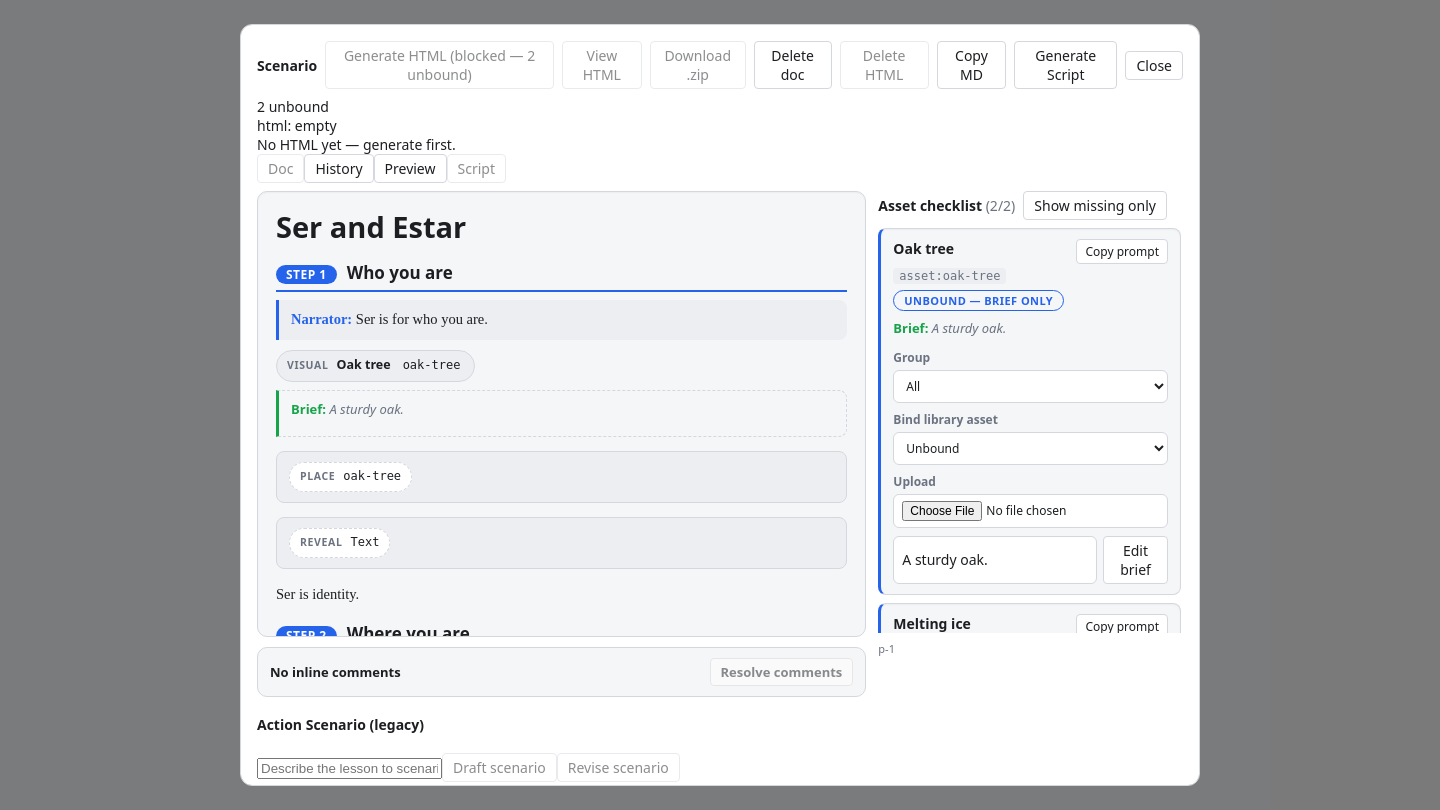
Scenario: AiScenarioModal Generate Script (issue #471) › previews per-slide durations, sources, fractions, and diagnostics from the accepted snapshot
This screenshot has width=1440, height=810.
Click the button with test id "ai-scenario-generate-script". click: (1066, 65)
box: top-left (1014, 41), bottom-right (1117, 89)
(page scrolled)
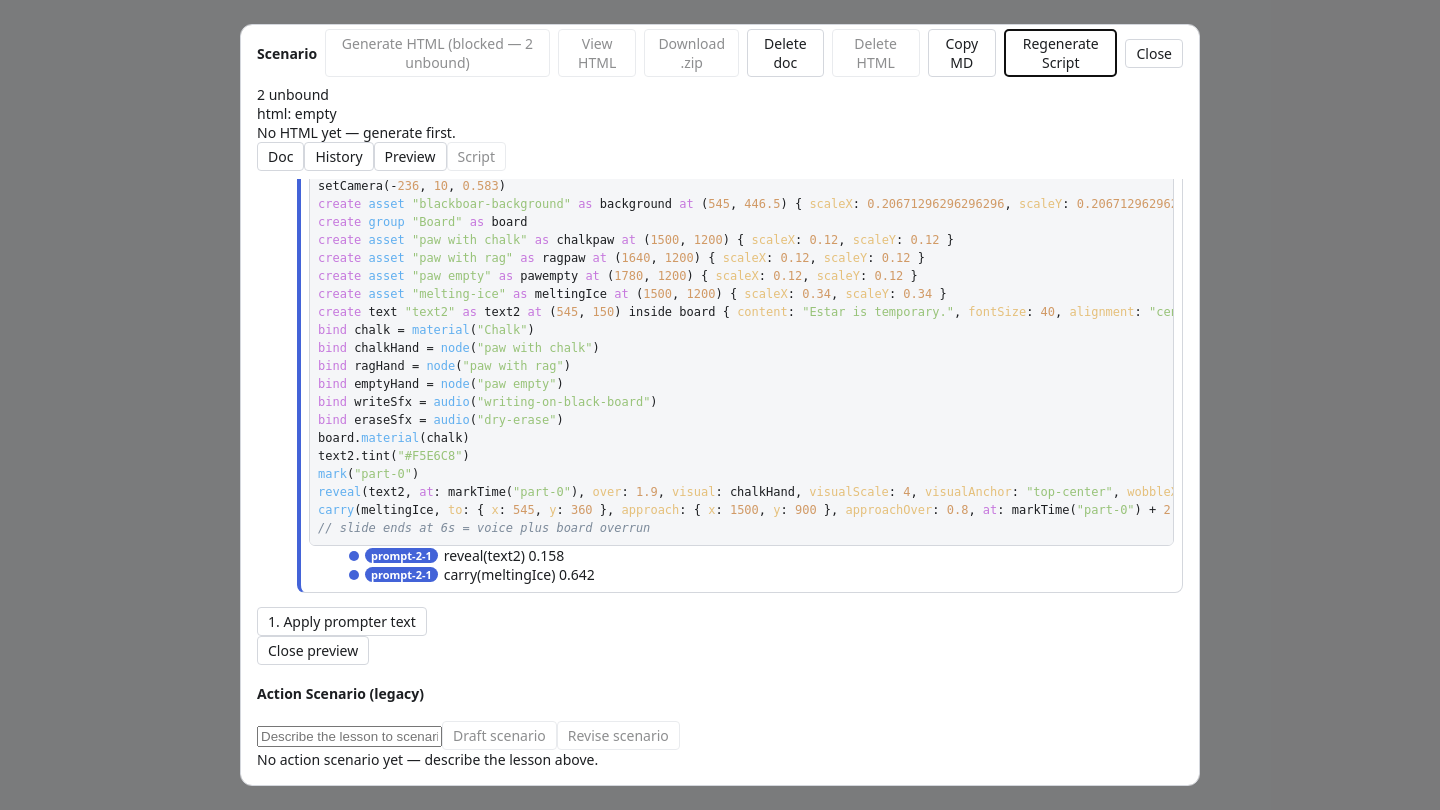
expect the list with test id "ai-scenario-script-slide-fractions-2" shows "prompt-2": met, box top-left (371, 548), bottom-right (432, 563)
expect the button with test id "ai-scenario-script-apply-prompter" is enabled: met, box top-left (257, 607), bottom-right (427, 636)
